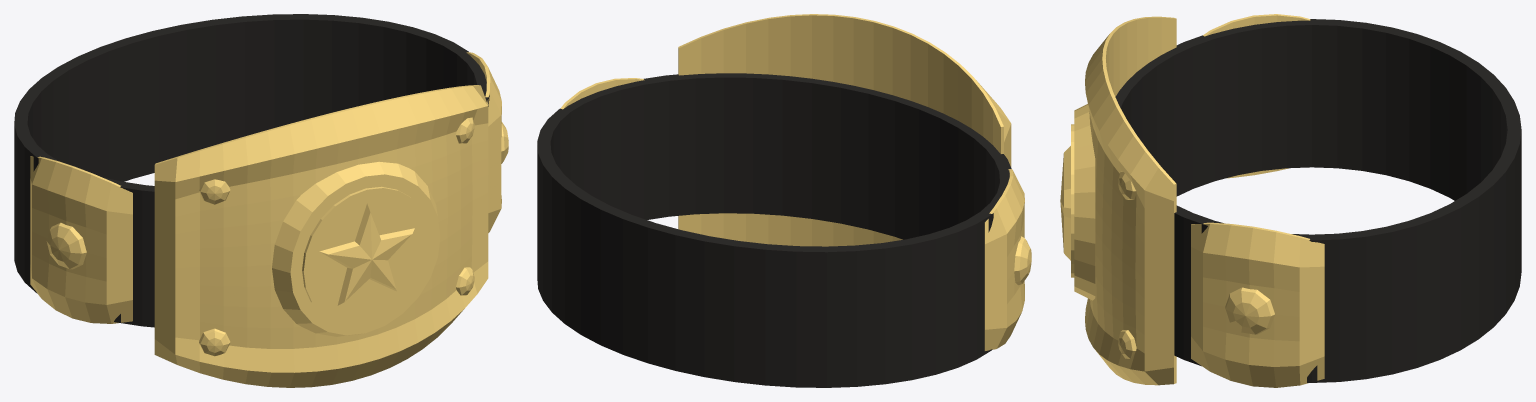
Rendered from SM_ChampionBelt.glb.
3 views of the same model, side by side, from view 1: azimuth 30°, elevation 25°; view 2: azimuth 150°, elevation 25°; view 3: azimuth 270°, elevation 25° (orthographic). The views are drawn at different scales.
Visible parts, largest first — view 1: SM_ChampionBelt; view 2: SM_ChampionBelt; view 3: SM_ChampionBelt.
Part boxes in pixels (x1,y1,x2,y2): SM_ChampionBelt: (14, 14, 508, 387); SM_ChampionBelt: (537, 14, 1031, 387); SM_ChampionBelt: (1060, 14, 1521, 387).
Size of the model in its own units: 0.3147 by 0.18 by 0.264.
